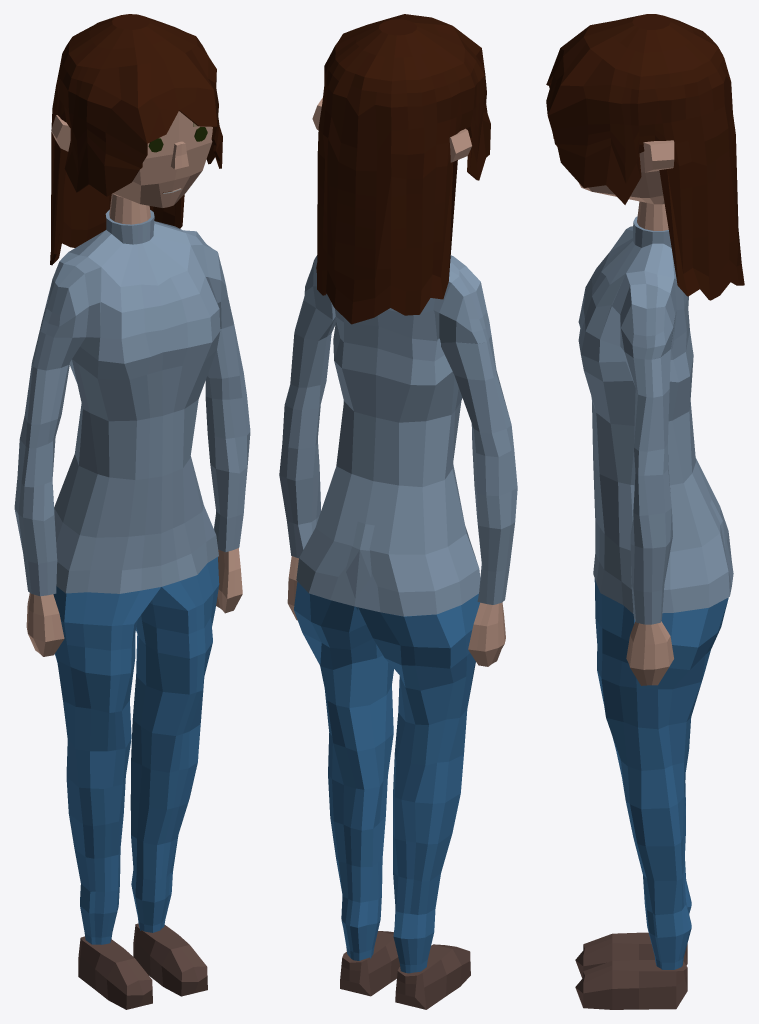
File: npcfemale4.fbx
The picture shows the model from 3 angles, left to right: view 1: azimuth 30°, elevation 25°; view 2: azimuth 150°, elevation 25°; view 3: azimuth 270°, elevation 25°; orthographic projection.
Visible parts, largest first — view 1: Cylinder.002; view 2: Cylinder.002; view 3: Cylinder.002.
Part boxes in pixels (left/top/right/bottom): Cylinder.002: left=14, top=14, right=250, bottom=1009; Cylinder.002: left=279, top=14, right=517, bottom=1009; Cylinder.002: left=546, top=14, right=744, bottom=1009.
Bounding box in the file's own units: 36.17 × 146 × 27.2.
